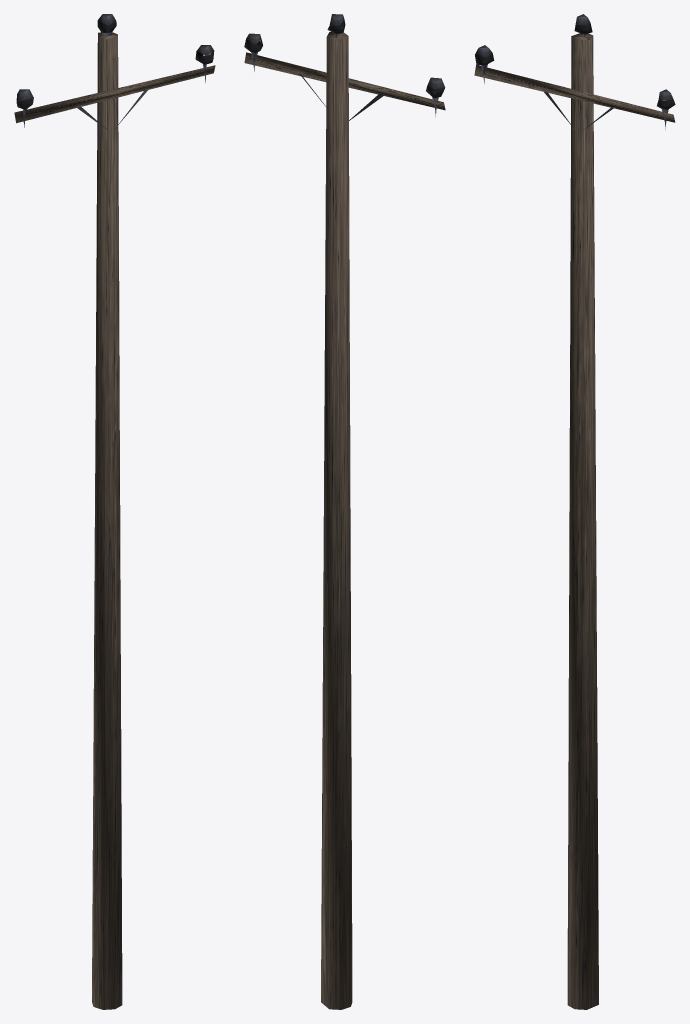
File: pole_wood_c_lod_2.glb
3 views of the same model, side by side, from view 1: azimuth 30°, elevation 25°; view 2: azimuth 150°, elevation 25°; view 3: azimuth 330°, elevation 25° (orthographic).
Parts seen in each view (by area): view 1: pole_wood_c_lod_2; view 2: pole_wood_c_lod_2; view 3: pole_wood_c_lod_2.
Boxes of the visible parts, x1,y1,x2,y2 form: pole_wood_c_lod_2: [14, 14, 215, 1009]; pole_wood_c_lod_2: [244, 14, 445, 1009]; pole_wood_c_lod_2: [474, 14, 675, 1009].
Bounding box in the file's own units: 2.2 × 10.42 × 0.3875.
Materials: 2 (2 with a texture image).
